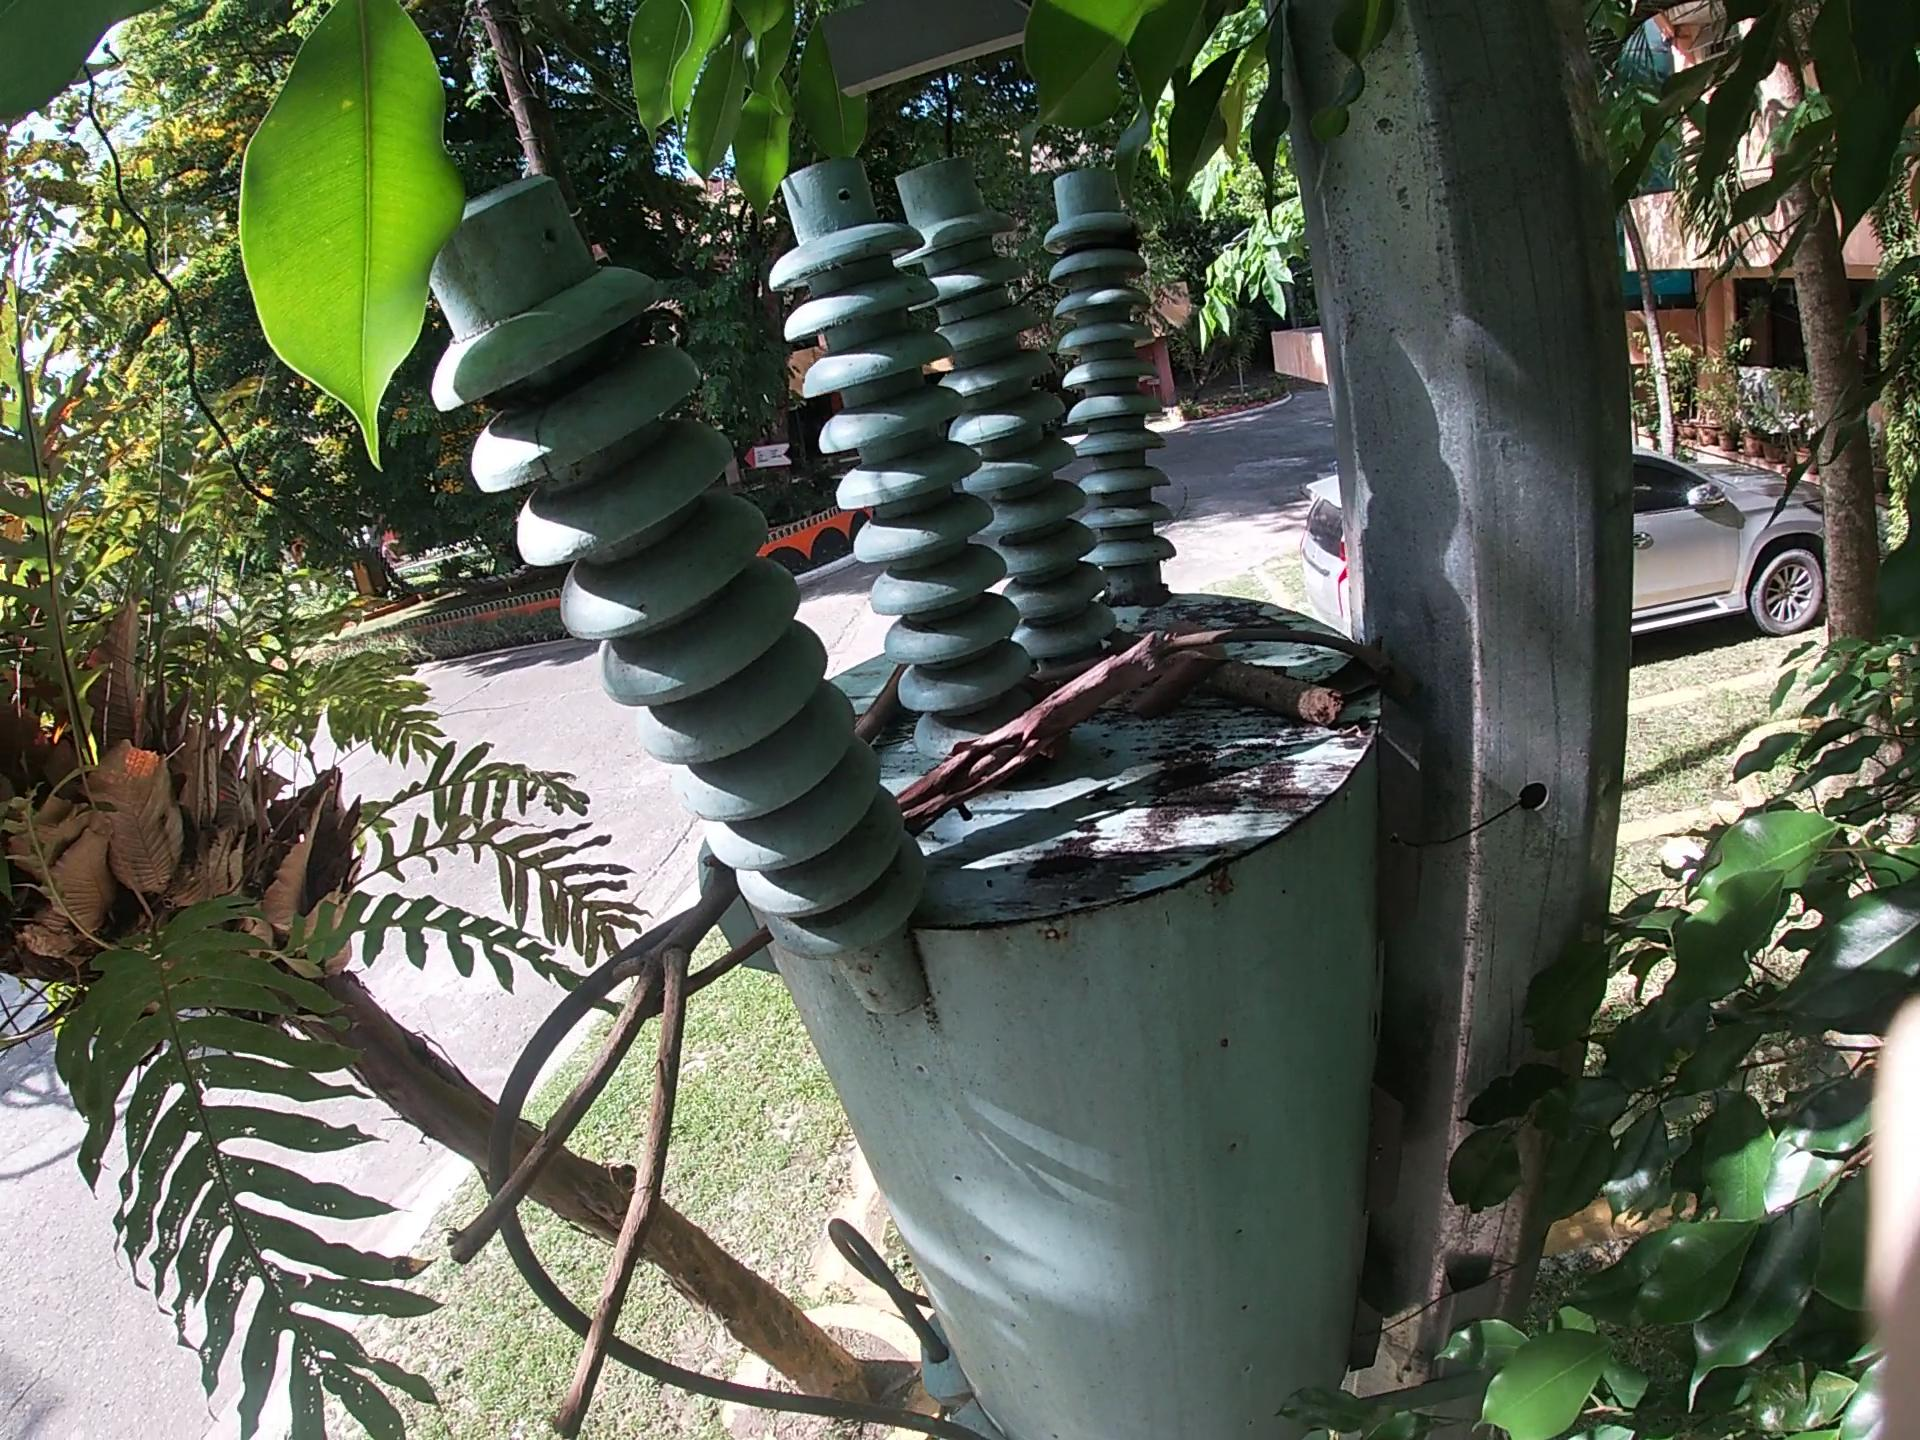leaf: (1114, 672, 1200, 738), (1155, 613, 1255, 659), (1327, 637, 1398, 694)
tree branch: (429, 864, 735, 1438), (909, 629, 1178, 832), (1158, 619, 1401, 675), (1193, 664, 1359, 715), (655, 954, 763, 1021), (850, 663, 913, 737), (1023, 644, 1116, 682)
